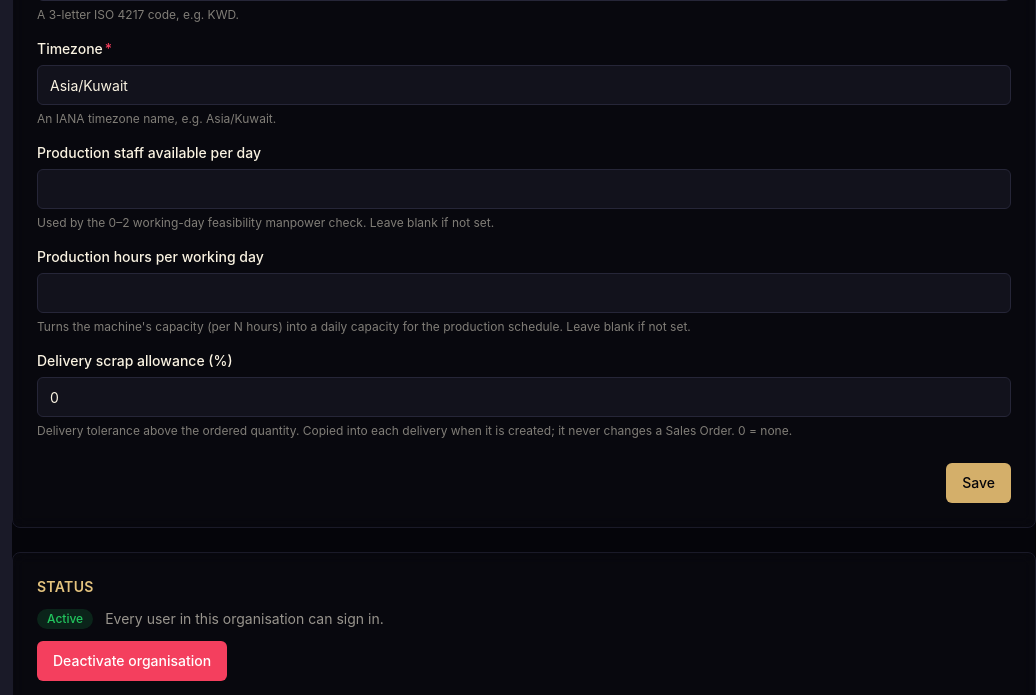
Test: OrganisationSettingsPage › shows a field-level error when the server rejects a duplicate code
(page scrolled)
Click the button "Save".
click(979, 483)  # box [946,463,1011,503]
(page scrolled)
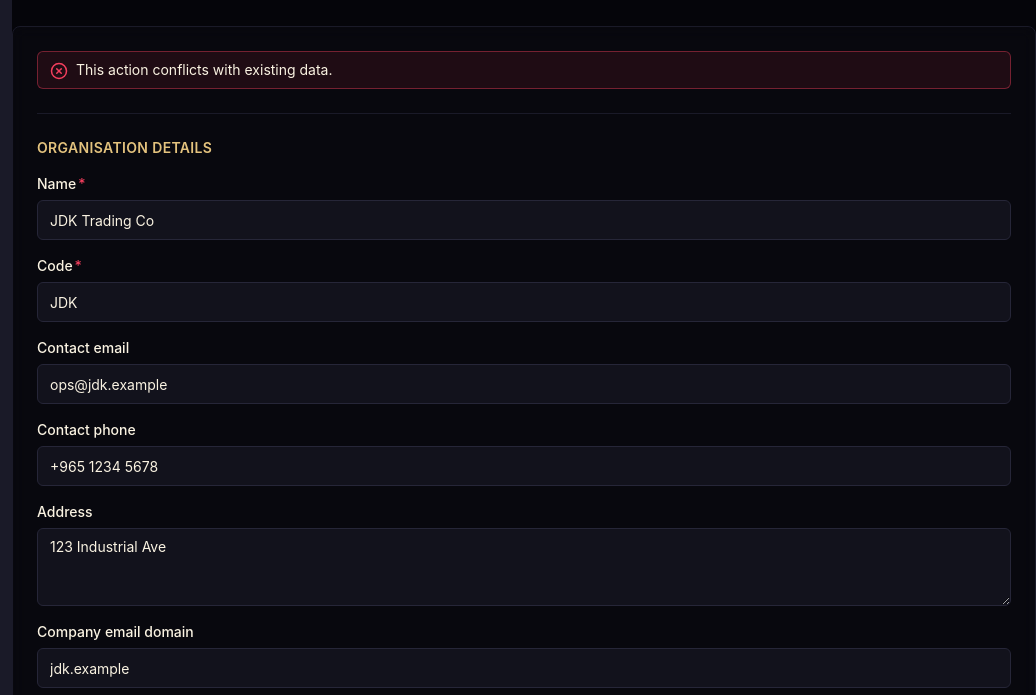
Check: the text "This action conflicts with existing data." is shown, box [76,60,332,80]
